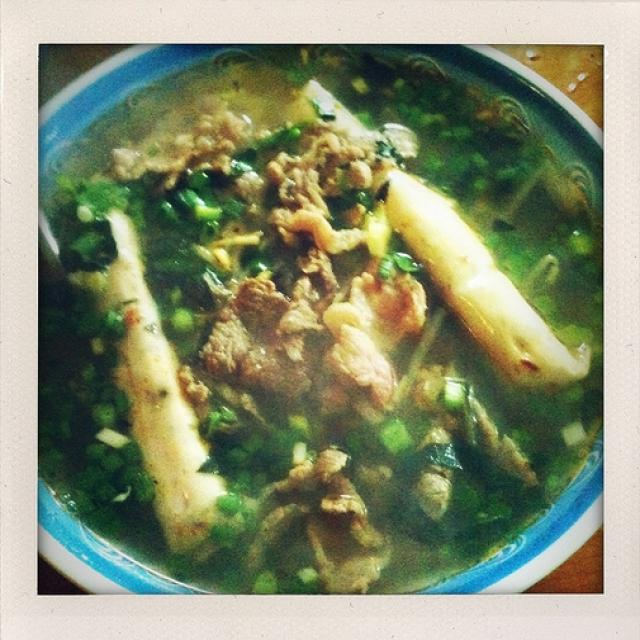面条主食: (43, 42, 602, 588)
